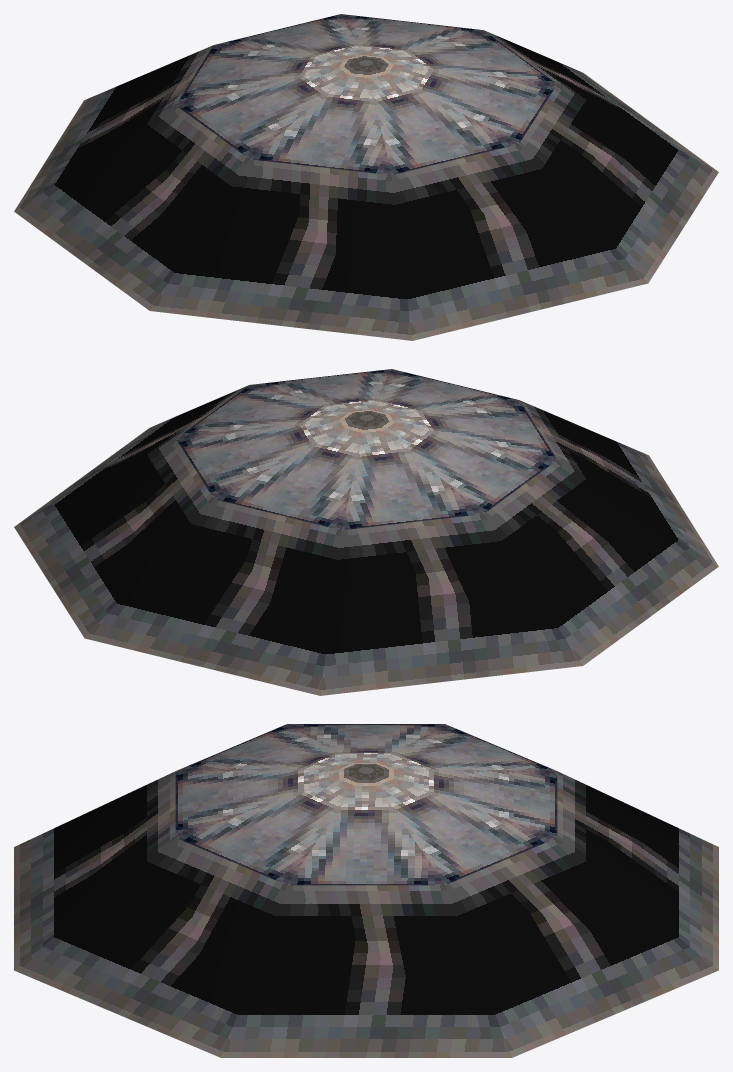
3 renders of one model, top to bottom at view 1: azimuth 30°, elevation 25°; view 2: azimuth 150°, elevation 25°; view 3: azimuth 270°, elevation 25°, orthographic. The views are drawn at different scales.
Parts seen in each view (by area): view 1: Joke_obj_071; view 2: Joke_obj_071; view 3: Joke_obj_071.
Boxes of the visible parts, x1,y1,x2,y2 form: Joke_obj_071: (14, 14, 718, 340); Joke_obj_071: (14, 369, 718, 695); Joke_obj_071: (14, 724, 718, 1057).
Size of the model in its own units: 1.83 by 0.4004 by 1.83.
Materials: 1 (1 with a texture image).
